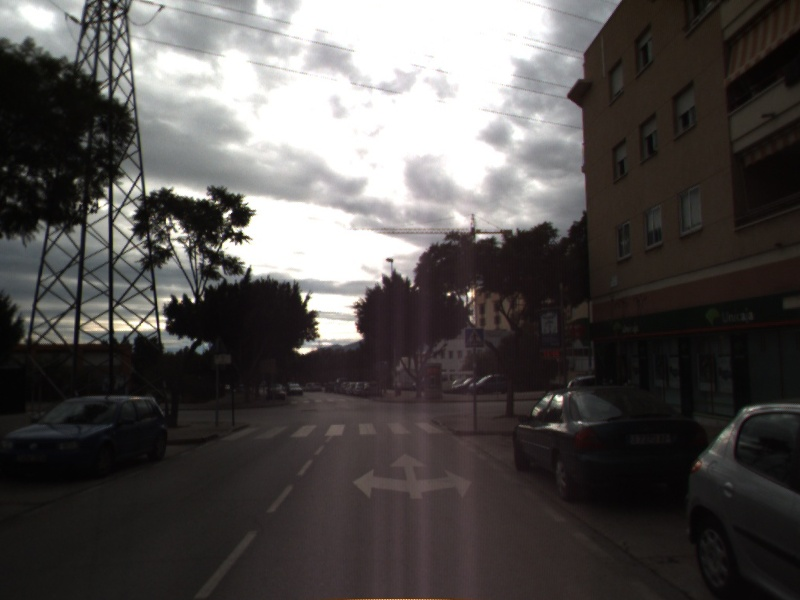STRAIGHT_LEFT_RIGHT: (351, 451, 474, 501)
